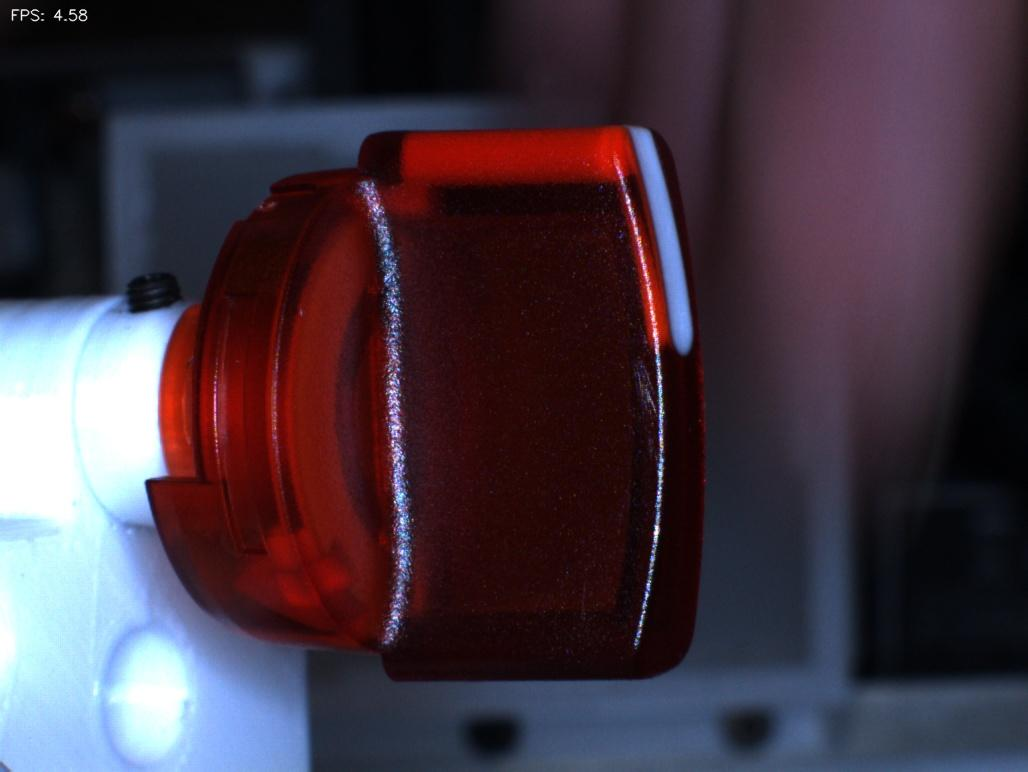Givrage: (605, 332, 678, 451)
